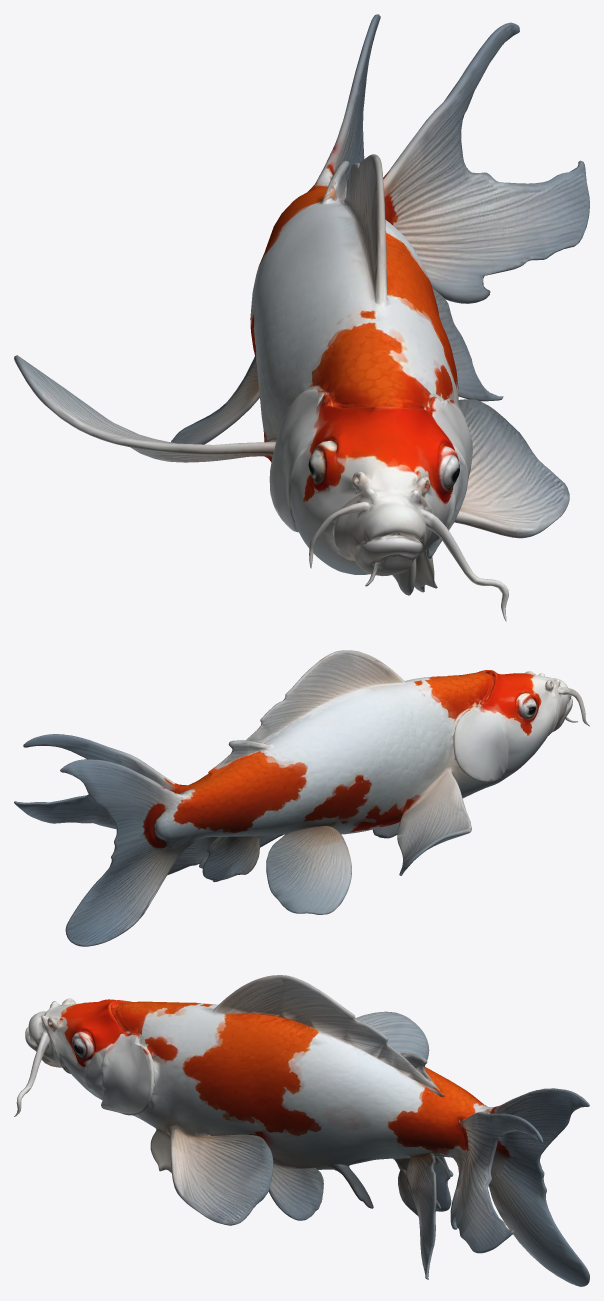
The model's file is koi-fish.opt.glb.
3 renders of one model, top to bottom at view 1: azimuth 30°, elevation 25°; view 2: azimuth 150°, elevation 25°; view 3: azimuth 270°, elevation 25°, orthographic. The views are drawn at different scales.
Visible parts, largest first — view 1: node_0; view 2: node_0; view 3: node_0.
Part boxes in pixels (left/top/right/bottom): node_0: left=14, top=14, right=589, bottom=621; node_0: left=14, top=650, right=589, bottom=946; node_0: left=14, top=975, right=589, bottom=1286.
Bounding box in the file's own units: 0.8488 × 0.4816 × 1.02.
1 material, 1 textured.
